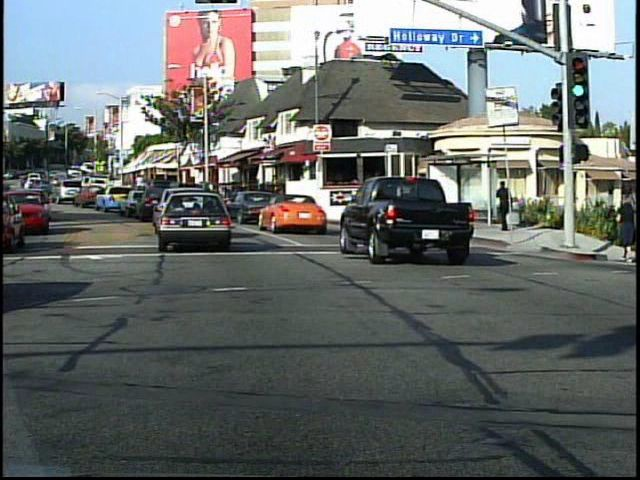person: (616, 193, 639, 265), (493, 178, 518, 236)
